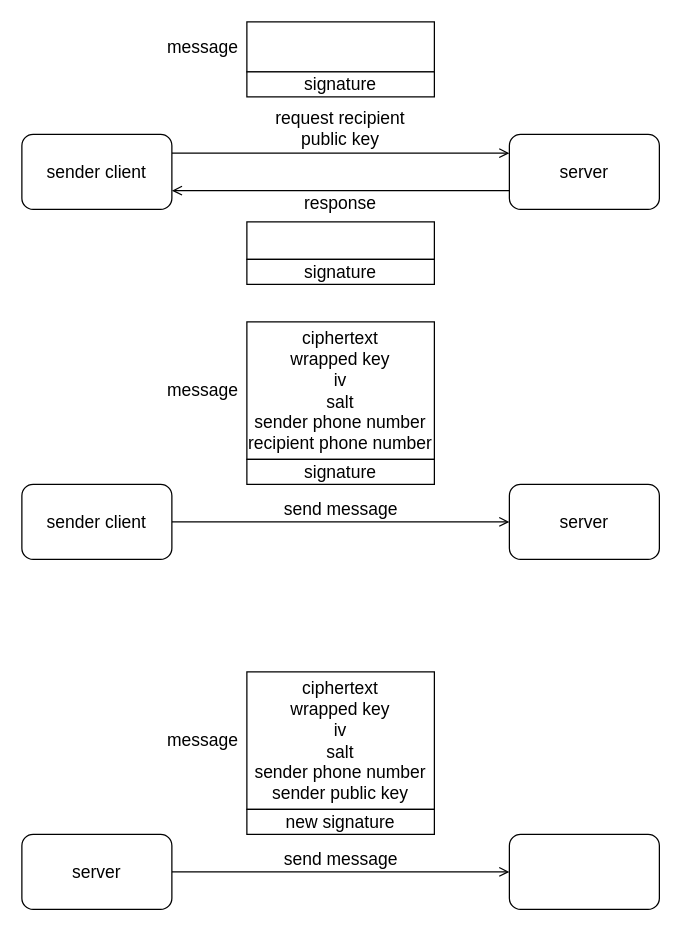
Some shapes in this 681 by 931 pixel diagram are drawn without their labels. Here are the shapes that lost their labels. From the top down, the centre of each, then its label:
the point at 340,46: sender phone number recipient phone number
the point at 340,240: recipient public key
the point at 583,871: recipient client
